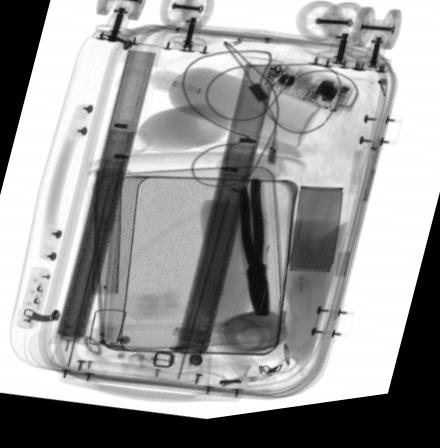Pliers: (239, 185, 269, 323)
